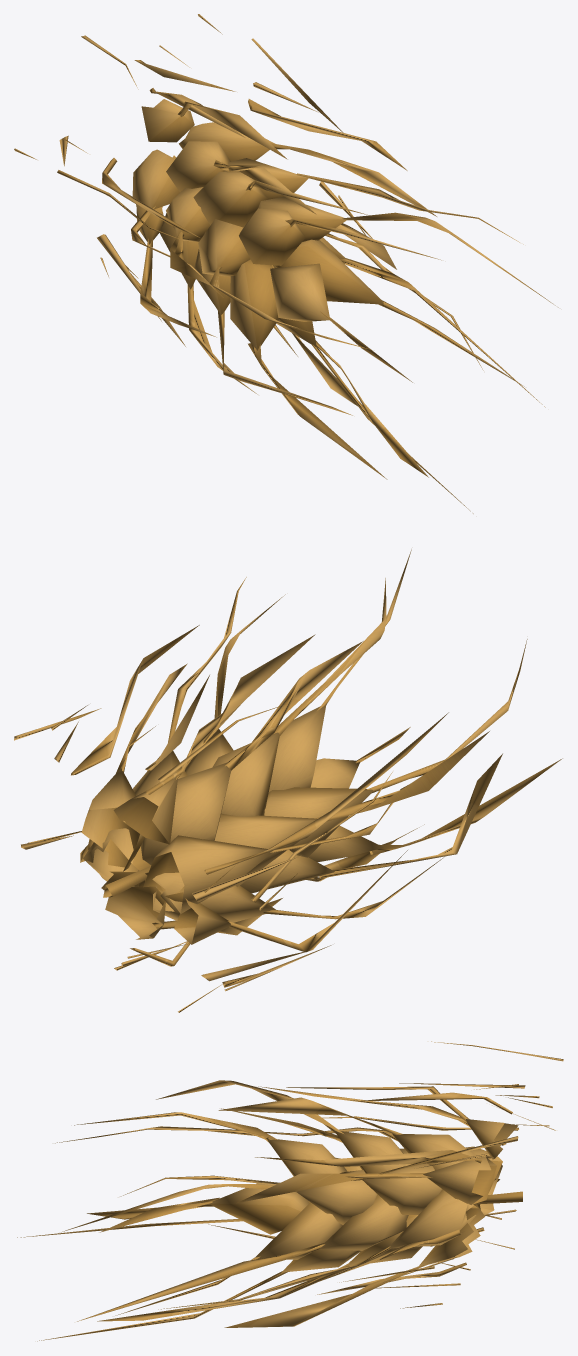
Rendered from unti4tled.fbx.
3 renders of one model, top to bottom at view 1: azimuth 30°, elevation 25°; view 2: azimuth 150°, elevation 25°; view 3: azimuth 270°, elevation 25°, orthographic. The views are drawn at different scales.
Visible parts, largest first — view 1: Oats_02 (1); view 2: Oats_02 (1); view 3: Oats_02 (1).
Boxes of the visible parts, box(x1,y1,x2,y2) form: Oats_02 (1): box(14, 14, 558, 513); Oats_02 (1): box(14, 549, 562, 1012); Oats_02 (1): box(17, 1041, 563, 1341).
Bounding box in the file's own units: 47.1 × 49.38 × 96.67.
